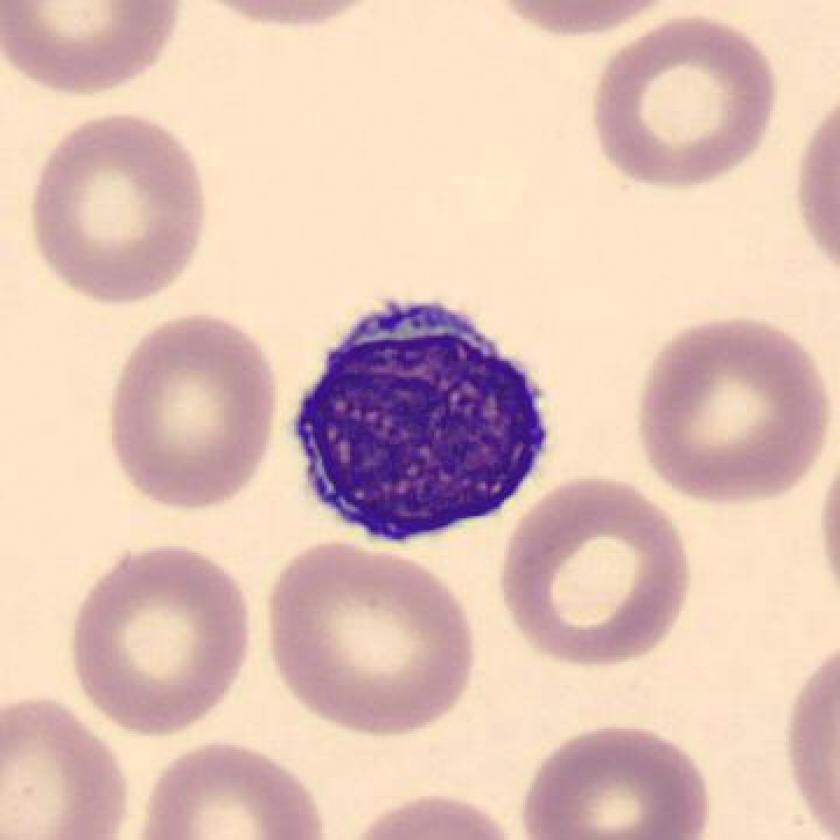lymphocyte: (288, 281, 561, 563)
